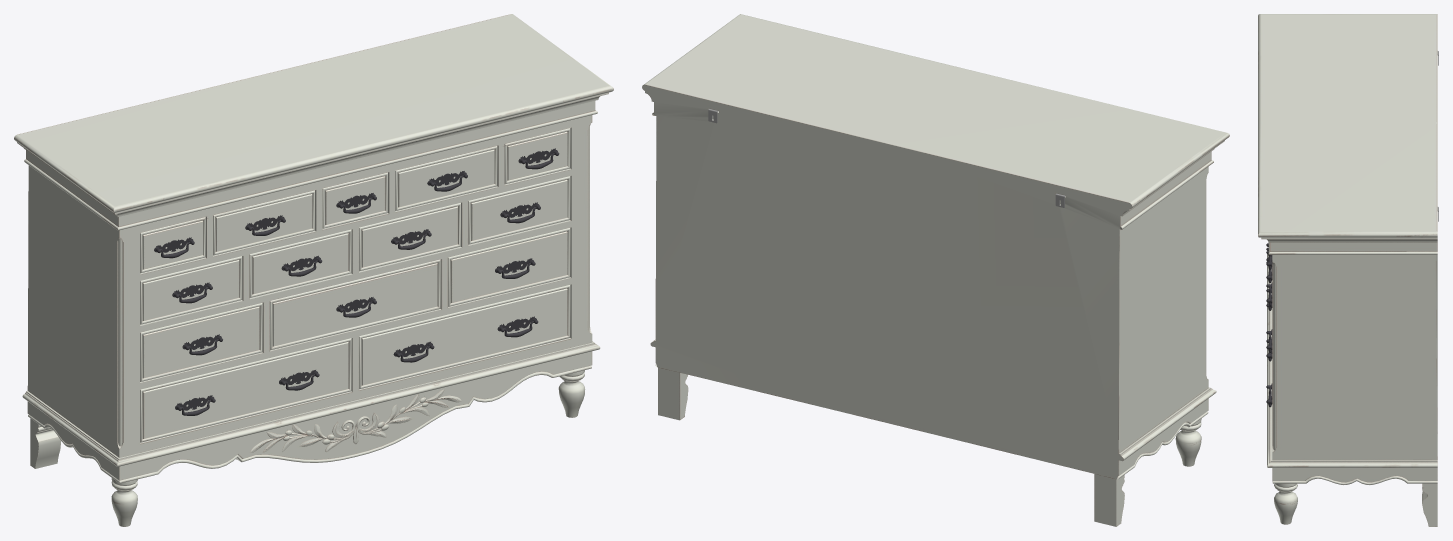
Rendered from example144.gltf.
3 views of the same model, side by side, from view 1: azimuth 30°, elevation 25°; view 2: azimuth 150°, elevation 25°; view 3: azimuth 270°, elevation 25° (orthographic). The views are drawn at different scales.
Bounding box in the file's own units: 145 × 92.5 × 50.34.
Materials: 3 (2 with a texture image).
